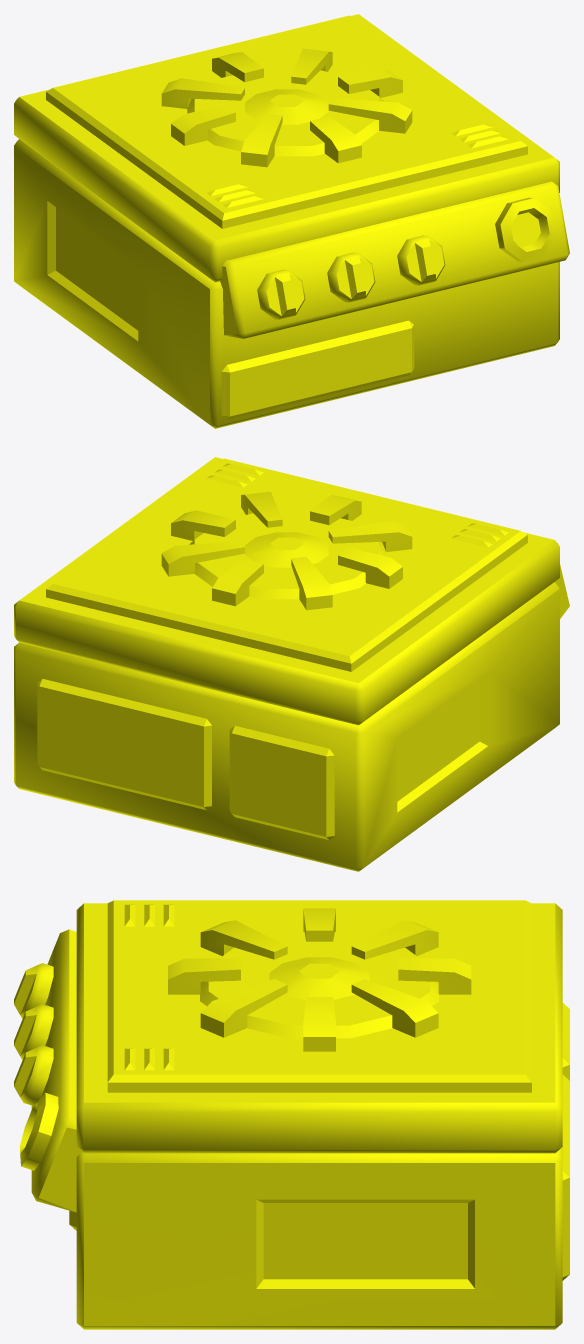
Rendered from kaykit-stove-single.glb.
The picture shows the model from 3 angles, top to bottom: view 1: azimuth 30°, elevation 25°; view 2: azimuth 150°, elevation 25°; view 3: azimuth 270°, elevation 25°; orthographic projection. The views are drawn at different scales.
Visible parts, largest first — view 1: stove_single; view 2: stove_single; view 3: stove_single.
Boxes of the visible parts, <box> form: stove_single: <box>14,14,569,428</box>; stove_single: <box>14,457,569,871</box>; stove_single: <box>14,900,569,1329</box>.
Bounding box in the file's own units: 2 × 1.21 × 2.29.
